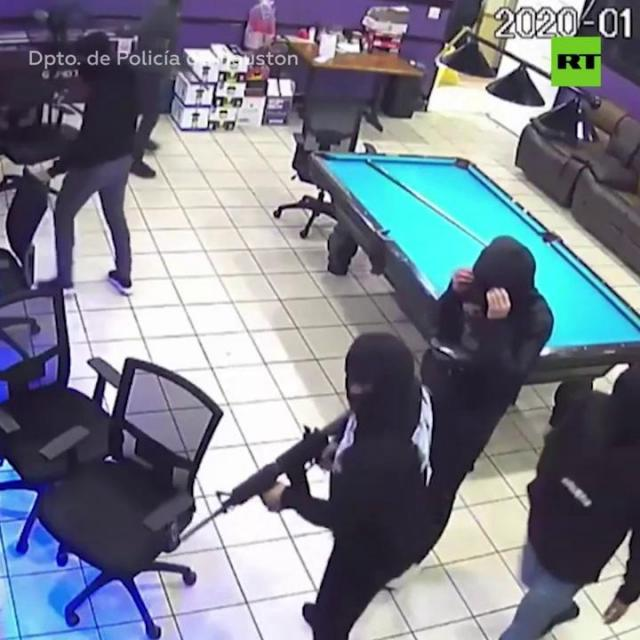weapon: (171, 396, 355, 556)
